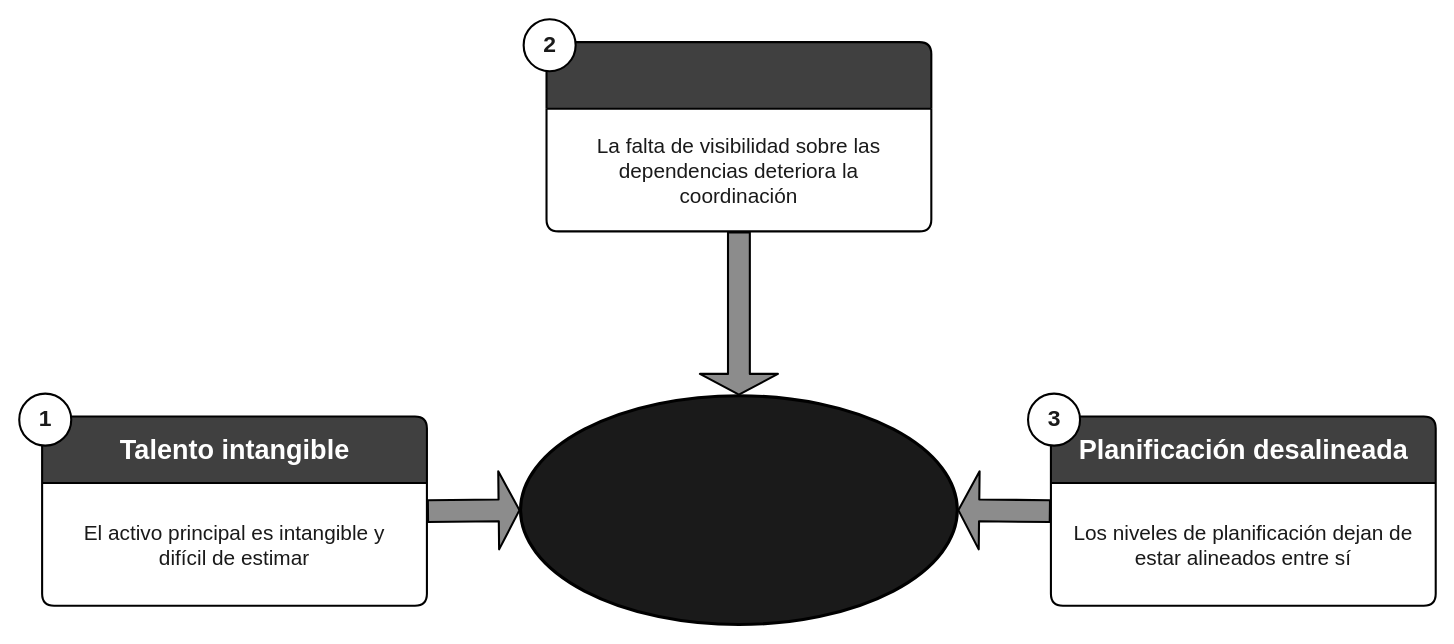
This 1454x644 diagram has some shape labels left out. The shapes that lost their labels are listed below. From the top down, each one's box as (x1, y1, x2, y2) in pixels, then its label:
(545, 41, 932, 232): Dependencias no claras
(518, 394, 958, 626): Retrasos, caídas de calidad y tensión sobre los equipos
